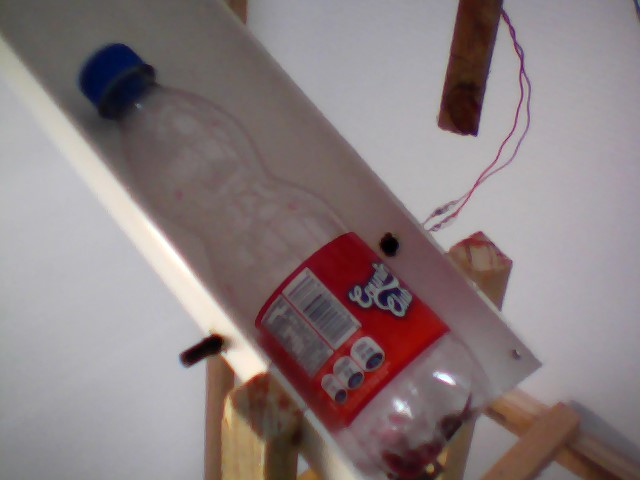plastico: (74, 31, 498, 480)
